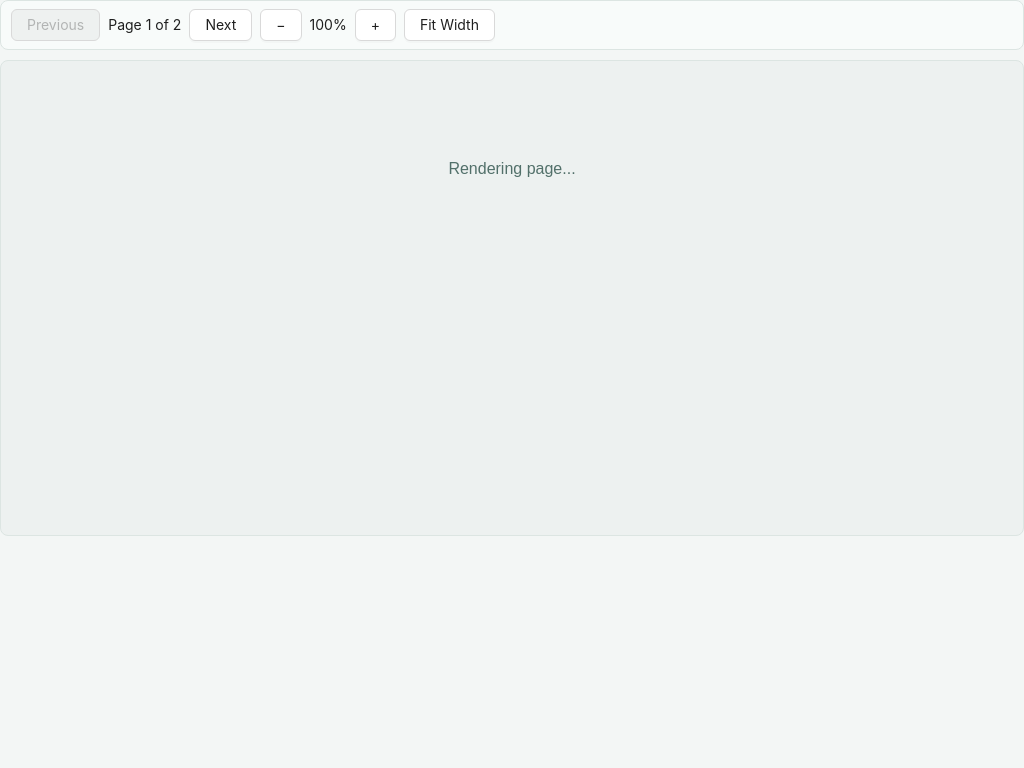
Scenario: PdfViewer › ignores an obsolete page render when navigation overtakes getPage
Click the button with aria-label "Next page". click: (221, 25)
box: 189,9 -> 252,41
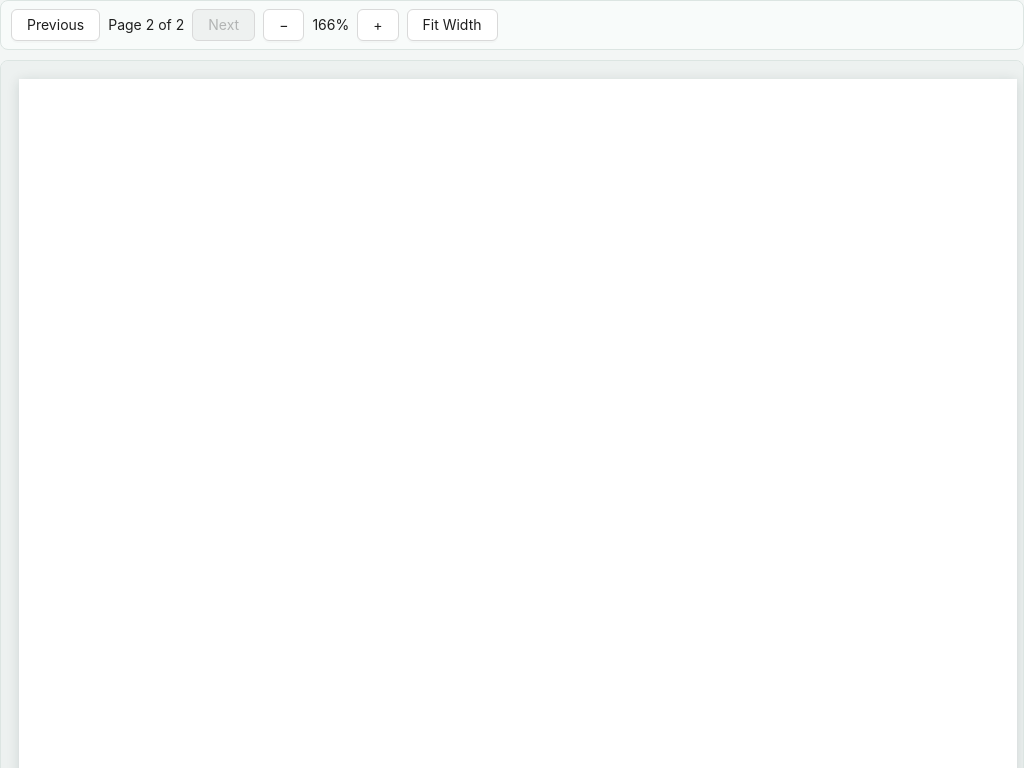
Expected: the text "Page 2 of 2" is shown, 108,16 -> 184,33
